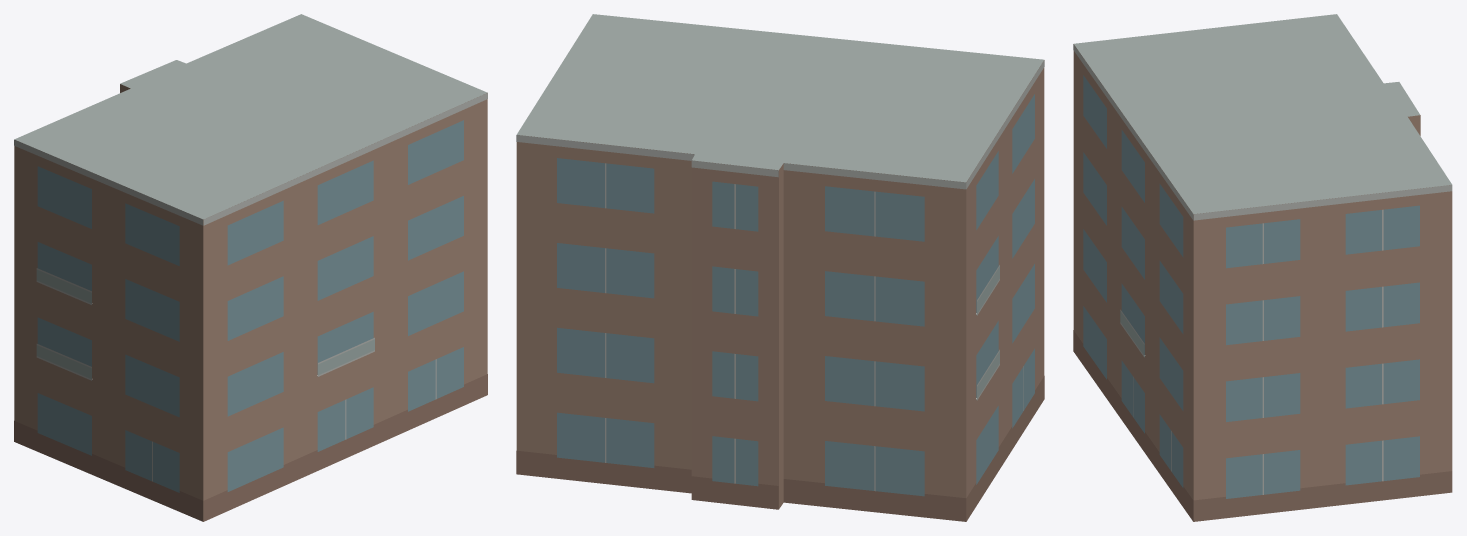
Rendered from survey-upis-32999426.glb.
3 views of the same model, side by side, from view 1: azimuth 30°, elevation 25°; view 2: azimuth 150°, elevation 25°; view 3: azimuth 270°, elevation 25° (orthographic). The views are drawn at different scales.
Parts seen in each view (by area): view 1: survey-upis-32999426.tmp; view 2: survey-upis-32999426.tmp; view 3: survey-upis-32999426.tmp.
Boxes of the visible parts, x1,y1,x2,y2 form: survey-upis-32999426.tmp: [14, 14, 487, 521]; survey-upis-32999426.tmp: [516, 14, 1044, 521]; survey-upis-32999426.tmp: [1073, 14, 1452, 521].
Bounding box in the file's own units: 16.33 × 11.7 × 13.07.
